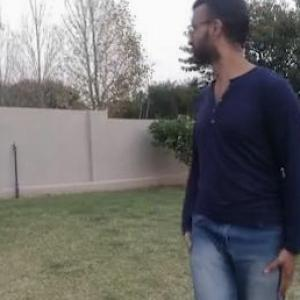follow: (175, 0, 299, 299)
